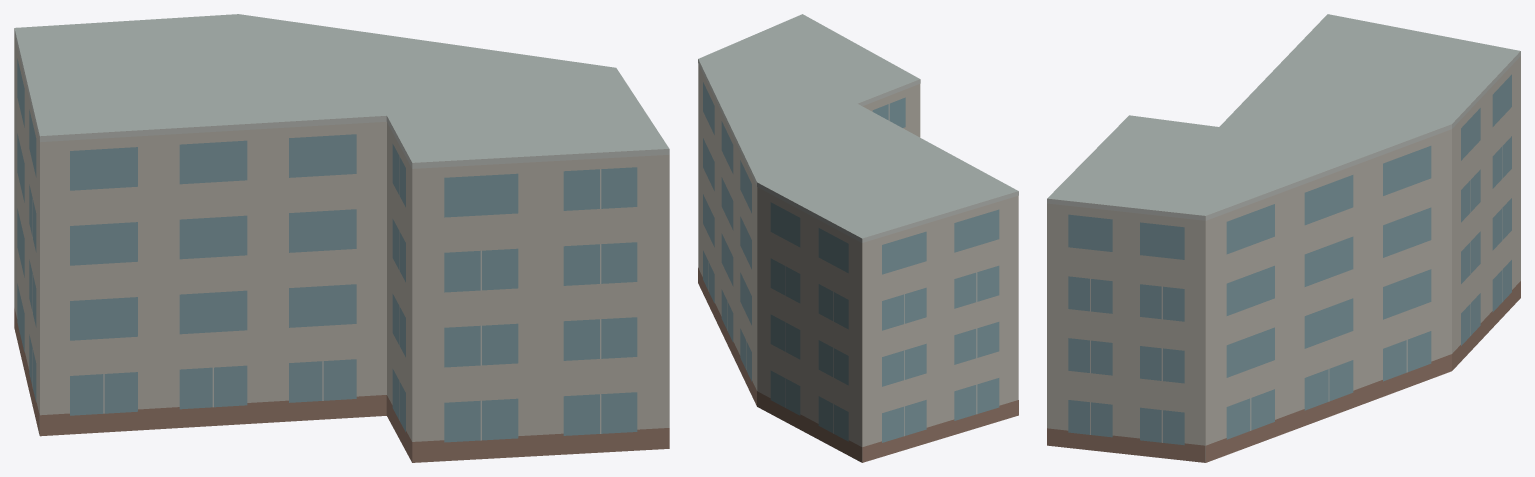
The model's file is residential-6e439a01-19f0-47fd-87ee-bc109ab6b31c.glb.
3 renders of one model, left to right at view 1: azimuth 30°, elevation 25°; view 2: azimuth 150°, elevation 25°; view 3: azimuth 270°, elevation 25°, orthographic. The views are drawn at different scales.
Visible parts, largest first — view 1: residential-6e439a01-19f0-47fd-87ee-bc109ab6b31c.tmp; view 2: residential-6e439a01-19f0-47fd-87ee-bc109ab6b31c.tmp; view 3: residential-6e439a01-19f0-47fd-87ee-bc109ab6b31c.tmp.
Part boxes in pixels (x1=…): residential-6e439a01-19f0-47fd-87ee-bc109ab6b31c.tmp: x1=14, y1=14, x2=669, y2=462; residential-6e439a01-19f0-47fd-87ee-bc109ab6b31c.tmp: x1=698, y1=14, x2=1018, y2=462; residential-6e439a01-19f0-47fd-87ee-bc109ab6b31c.tmp: x1=1047, y1=14, x2=1520, y2=462.
Size of the model in its own units: 21.4 by 12.2 by 21.22.
